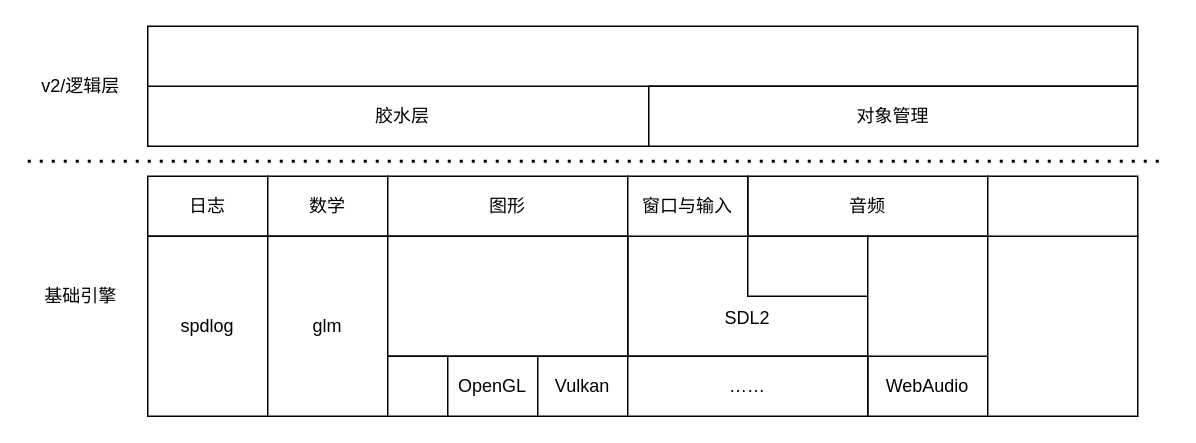
The diagram is 1196 pixels wide and 443 high, and some of its shapes have lost their labels. Each missing label, with the centre of its shape:
"D3D" goes at pixel 417 385.
"Diligent" goes at pixel 507 295.
"emscripten" goes at pixel 927 295.
"LuaJIT/Lua5.1" goes at pixel 1062 325.
"mojoAL" goes at pixel 807 265.
"脚本系统" goes at pixel 1062 205.
"脚本驱动层（data层）" goes at pixel 642 55.
